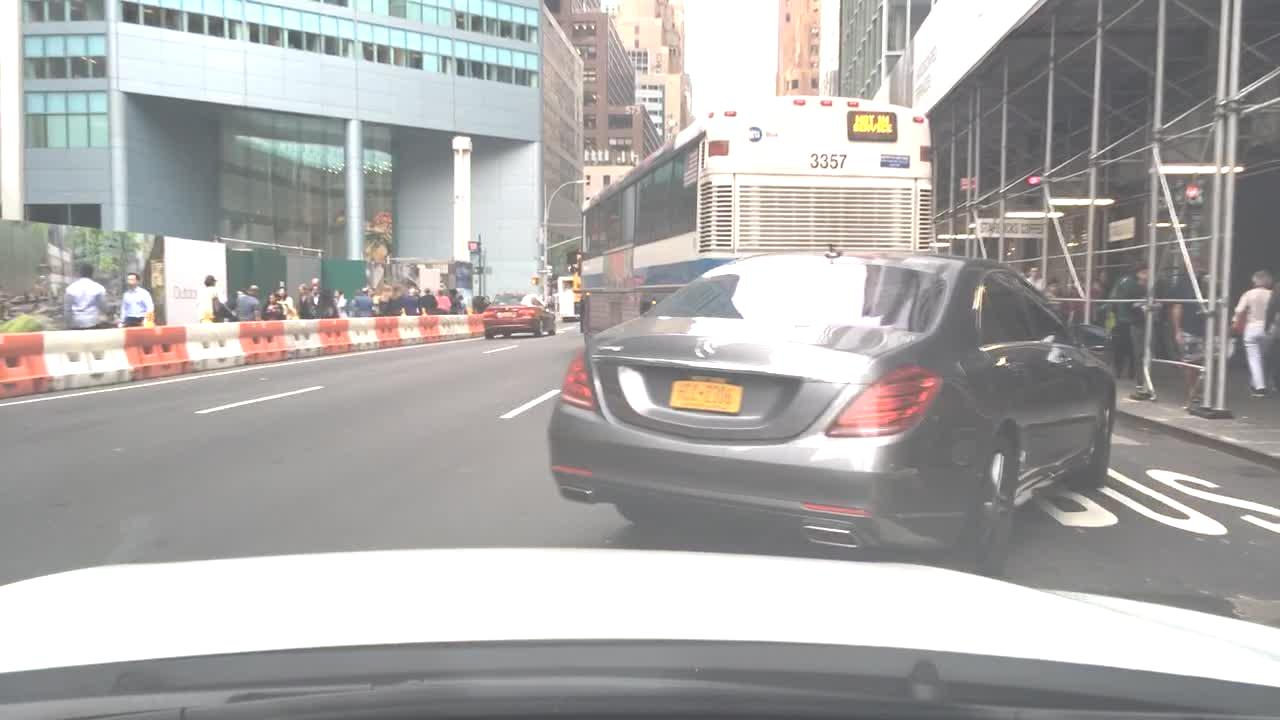Mercedes: (687, 330, 723, 370)
